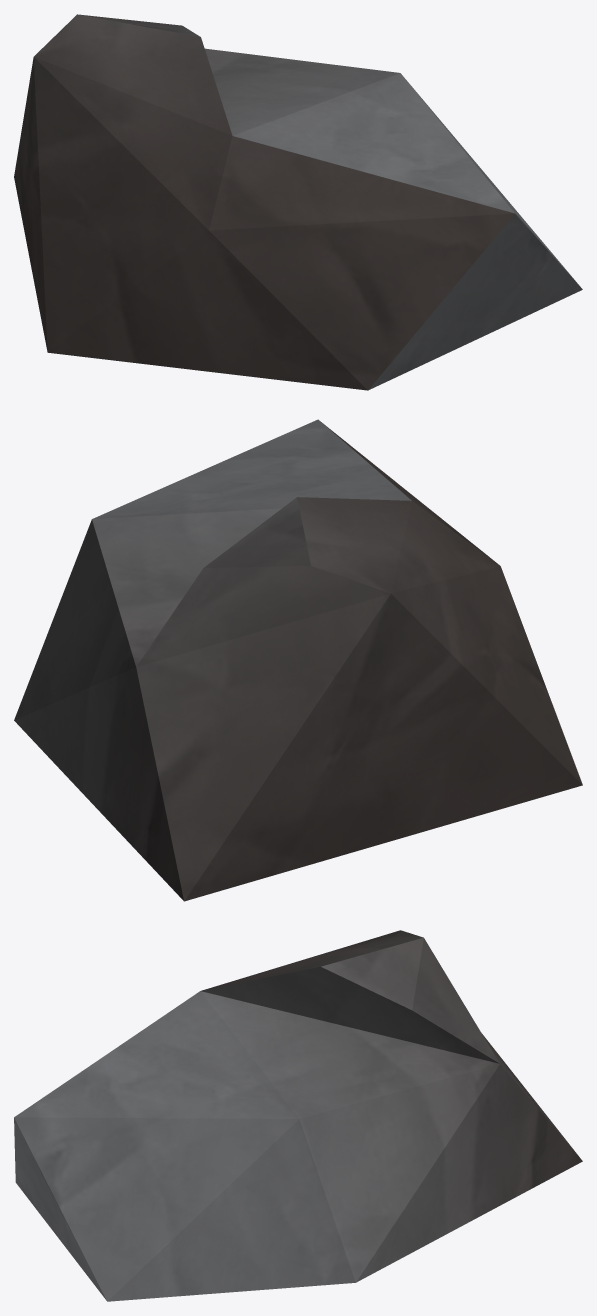
The model's file is stone.obj.
The picture shows the model from 3 angles, top to bottom: view 1: azimuth 30°, elevation 25°; view 2: azimuth 150°, elevation 25°; view 3: azimuth 270°, elevation 25°; orthographic projection. The views are drawn at different scales.
Parts seen in each view (by area): view 1: GeoSphere002; view 2: GeoSphere002; view 3: GeoSphere002.
Part boxes in pixels (x1,y1,x2,y2): GeoSphere002: (14, 14, 582, 390); GeoSphere002: (14, 419, 582, 901); GeoSphere002: (14, 930, 582, 1301).
Bounding box in the file's own units: 44.04 × 21.04 × 50.45.
